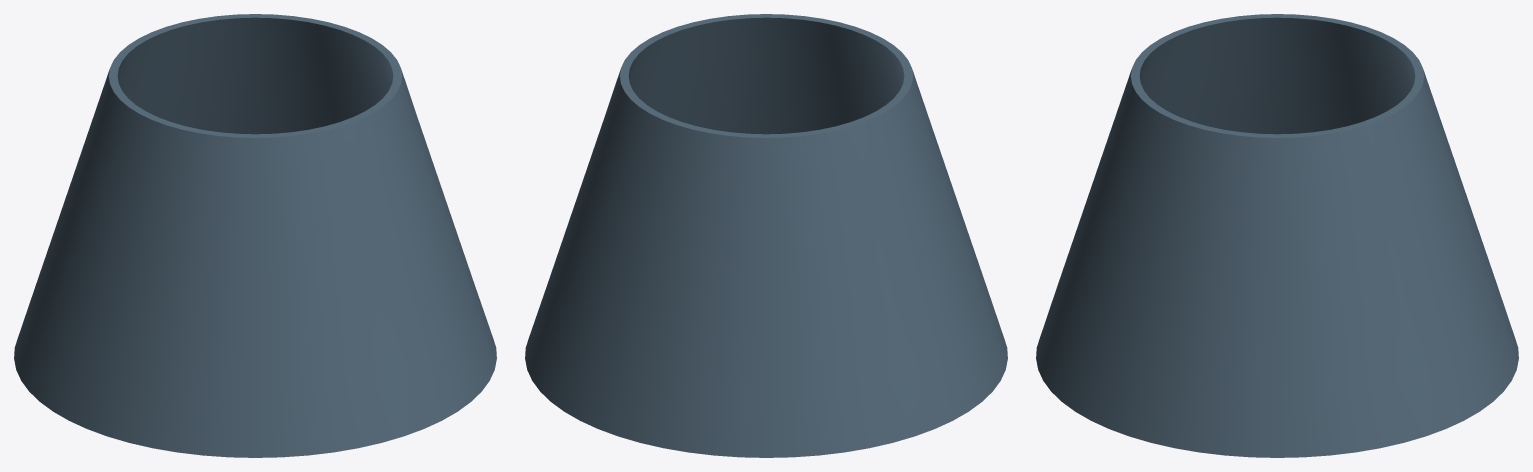
Rendered from perehod-219x6-133x4-L140.glb.
The picture shows the model from 3 angles, left to right: view 1: azimuth 30°, elevation 25°; view 2: azimuth 150°, elevation 25°; view 3: azimuth 270°, elevation 25°; orthographic projection.
Visible parts, largest first — view 1: Open CASCADE STEP translator 7.9 41; view 2: Open CASCADE STEP translator 7.9 41; view 3: Open CASCADE STEP translator 7.9 41.
Part boxes in pixels (x1,y1,x2,y2): Open CASCADE STEP translator 7.9 41: (14,14,496,457); Open CASCADE STEP translator 7.9 41: (525,14,1007,457); Open CASCADE STEP translator 7.9 41: (1036,14,1518,457).
Size of the model in its own units: 219 by 140 by 219.
